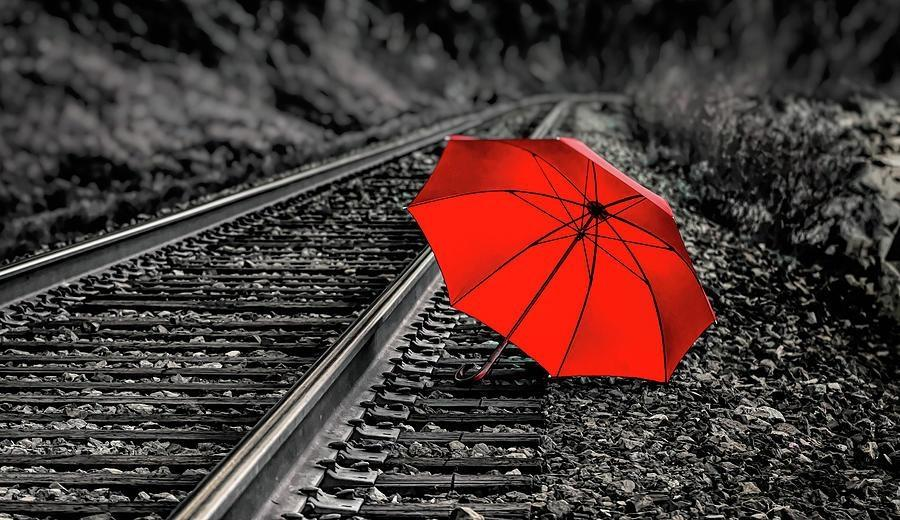Umbrella: (401, 114, 726, 404)
